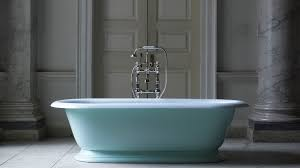bathub: (50, 95, 255, 161)
